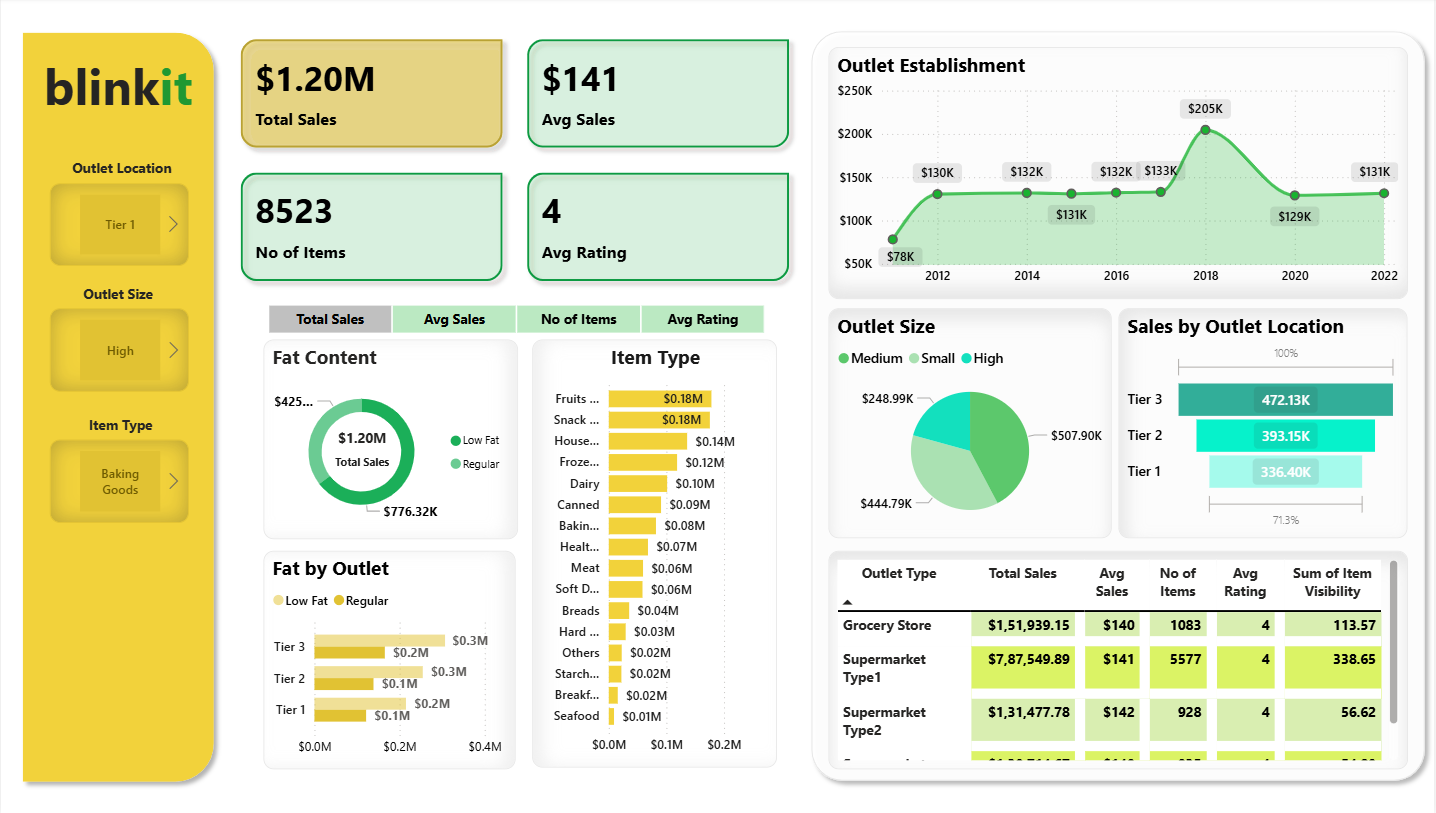

The page's visual inventory and layout, read from the dashboard file:
{"tool":"powerbi","page":{"name":"Page 1","canvas":[1400,800],"ordinal":0},"visuals":[{"type":"shape","box":[12.7,25.4,204.8,750.4],"z":0},{"type":"textbox","box":[12.7,48.3,204.8,78.9],"z":1000},{"type":"cardVisual","fields":{"Data":["BlinkIT Grocery Data.Total Sales","BlinkIT Grocery Data.Avg Sales","BlinkIT Grocery Data.No of Items","BlinkIT Grocery Data.Avg Rating"]},"box":[217.9,24.2,570.3,270.3],"z":2000},{"type":"donutChart","title":"Fat Content","fields":{"Y":["BlinkIT Grocery Data.Total Sales"],"Category":["BlinkIT Grocery Data.Item Fat Content"]},"box":[256.9,334.9,248.8,195],"z":4000},{"type":"slicer","fields":{"Values":["Metrics.Metrics"]},"box":[235.4,294.6,534,40.3],"z":5000},{"type":"cardVisual","fields":{"Data":["BlinkIT Grocery Data.Total Sales"]},"box":[283.8,377.9,139.9,127.8],"z":6000},{"type":"clusteredBarChart","title":"Fat by Outlet","fields":{"Y":["BlinkIT Grocery Data.Total Sales"],"Category":["BlinkIT Grocery Data.Outlet Location Type"],"Series":["BlinkIT Grocery Data.Item Fat Content"]},"box":[256.9,540.7,246.1,213.9],"z":7000},{"type":"barChart","title":"Item Type","fields":{"Y":["BlinkIT Grocery Data.Total Sales"],"Category":["BlinkIT Grocery Data.Item Type"]},"box":[519.2,334.9,239.4,418.3],"z":8000},{"type":"shape","box":[782.8,24.2,617.4,750.5],"z":9000},{"type":"lineChart","title":"Outlet Establishment","fields":{"Category":["BlinkIT Grocery Data.Outlet Establishment Year"],"Y":["BlinkIT Grocery Data.Total Sales"]},"box":[808.3,48.4,566.2,246.1],"z":10000},{"type":"pieChart","title":"Outlet Size","fields":{"Category":["BlinkIT Grocery Data.Outlet Size"],"Y":["BlinkIT Grocery Data.Total Sales"]},"box":[808.3,304,277.1,224.6],"z":11000},{"type":"funnel","title":"Sales by Outlet Location","fields":{"Category":["BlinkIT Grocery Data.Outlet Location Type"],"Y":["Sum(BlinkIT Grocery Data.Sales)"]},"box":[1092.1,304,282.4,224.6],"z":12000},{"type":"pivotTable","fields":{"Rows":["BlinkIT Grocery Data.Outlet Type"],"Values":["BlinkIT Grocery Data.Total Sales","BlinkIT Grocery Data.Avg Sales","BlinkIT Grocery Data.No of Items","BlinkIT Grocery Data.Avg Rating","Sum(BlinkIT Grocery Data.Item Visibility)"]},"box":[808.3,540.7,566.2,213.9],"z":13000},{"type":"slicer","title":"Outlet Size","fields":{"Values":["BlinkIT Grocery Data.Outlet Size"]},"box":[47.1,304,136.1,81.4],"z":14000},{"type":"slicer","title":"Outlet Location","fields":{"Values":["BlinkIT Grocery Data.Outlet Location Type"]},"box":[47.1,181.6,135.8,80.7],"z":15000},{"type":"slicer","title":"Item Type","fields":{"Values":["BlinkIT Grocery Data.Item Type"]},"box":[47.1,432.4,136.1,81.4],"z":16000},{"type":"textbox","box":[48.4,153.3,138.5,28.2],"z":17000},{"type":"textbox","box":[45.7,275.7,138.5,28.2],"z":17001},{"type":"textbox","box":[47.1,404.8,138.5,28.2],"z":17002}]}

Visuals, with their boxes in screenshot pixels (x1, y1, x2, y2), scaled from the page's 1400x800 canvas onto the 1436x813 screenshot:
shape: select_region(13, 26, 223, 788)
textbox: select_region(13, 49, 223, 129)
cardVisual - BlinkIT Grocery Data.Total Sales x BlinkIT Grocery Data.Avg Sales: select_region(224, 25, 808, 299)
"Fat Content" donutChart: select_region(264, 340, 519, 539)
slicer - Metrics.Metrics: select_region(241, 299, 789, 340)
cardVisual - BlinkIT Grocery Data.Total Sales: select_region(291, 384, 435, 514)
"Fat by Outlet" clusteredBarChart: select_region(264, 549, 516, 767)
"Item Type" barChart: select_region(533, 340, 778, 765)
shape: select_region(803, 25, 1435, 787)
"Outlet Establishment" lineChart: select_region(829, 49, 1410, 299)
"Outlet Size" pieChart: select_region(829, 309, 1113, 537)
"Sales by Outlet Location" funnel: select_region(1120, 309, 1410, 537)
pivotTable - BlinkIT Grocery Data.Outlet Type x BlinkIT Grocery Data.Total Sales: select_region(829, 549, 1410, 767)
"Outlet Size" slicer: select_region(48, 309, 188, 392)
"Outlet Location" slicer: select_region(48, 185, 188, 267)
"Item Type" slicer: select_region(48, 439, 188, 522)
textbox: select_region(50, 156, 192, 184)
textbox: select_region(47, 280, 189, 309)
textbox: select_region(48, 411, 190, 440)
